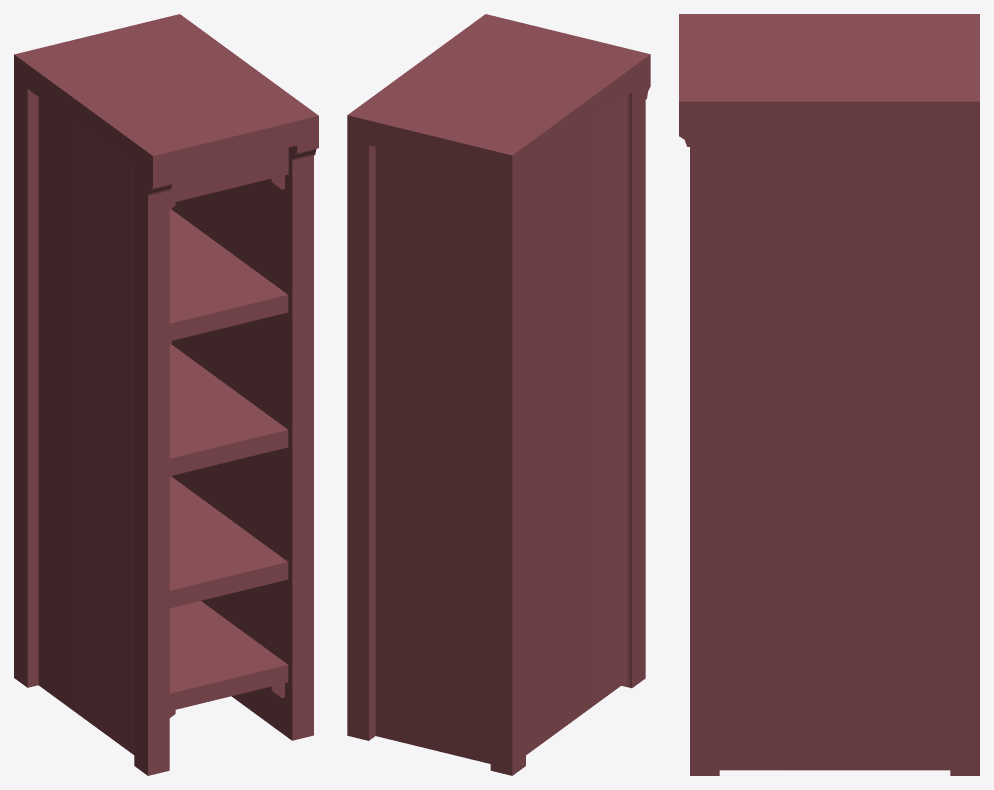
Rendered from SM_Shelf_Laundry_1_02.fbx.
The picture shows the model from 3 angles, left to right: view 1: azimuth 30°, elevation 25°; view 2: azimuth 150°, elevation 25°; view 3: azimuth 270°, elevation 25°; orthographic projection. The views are drawn at different scales.
Visible parts, largest first — view 1: SM_Shelf_Laundry_1_02; view 2: SM_Shelf_Laundry_1_02; view 3: SM_Shelf_Laundry_1_02.
Boxes of the visible parts, x1,y1,x2,y2 form: SM_Shelf_Laundry_1_02: [14, 14, 318, 775]; SM_Shelf_Laundry_1_02: [347, 14, 650, 775]; SM_Shelf_Laundry_1_02: [679, 14, 979, 775].
Size of the model in its own units: 62.22 by 224 by 90.32.
